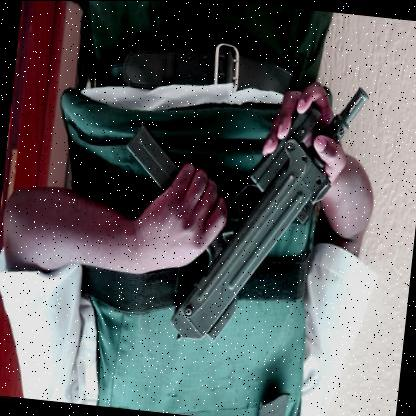rifle: (111, 40, 378, 369)
